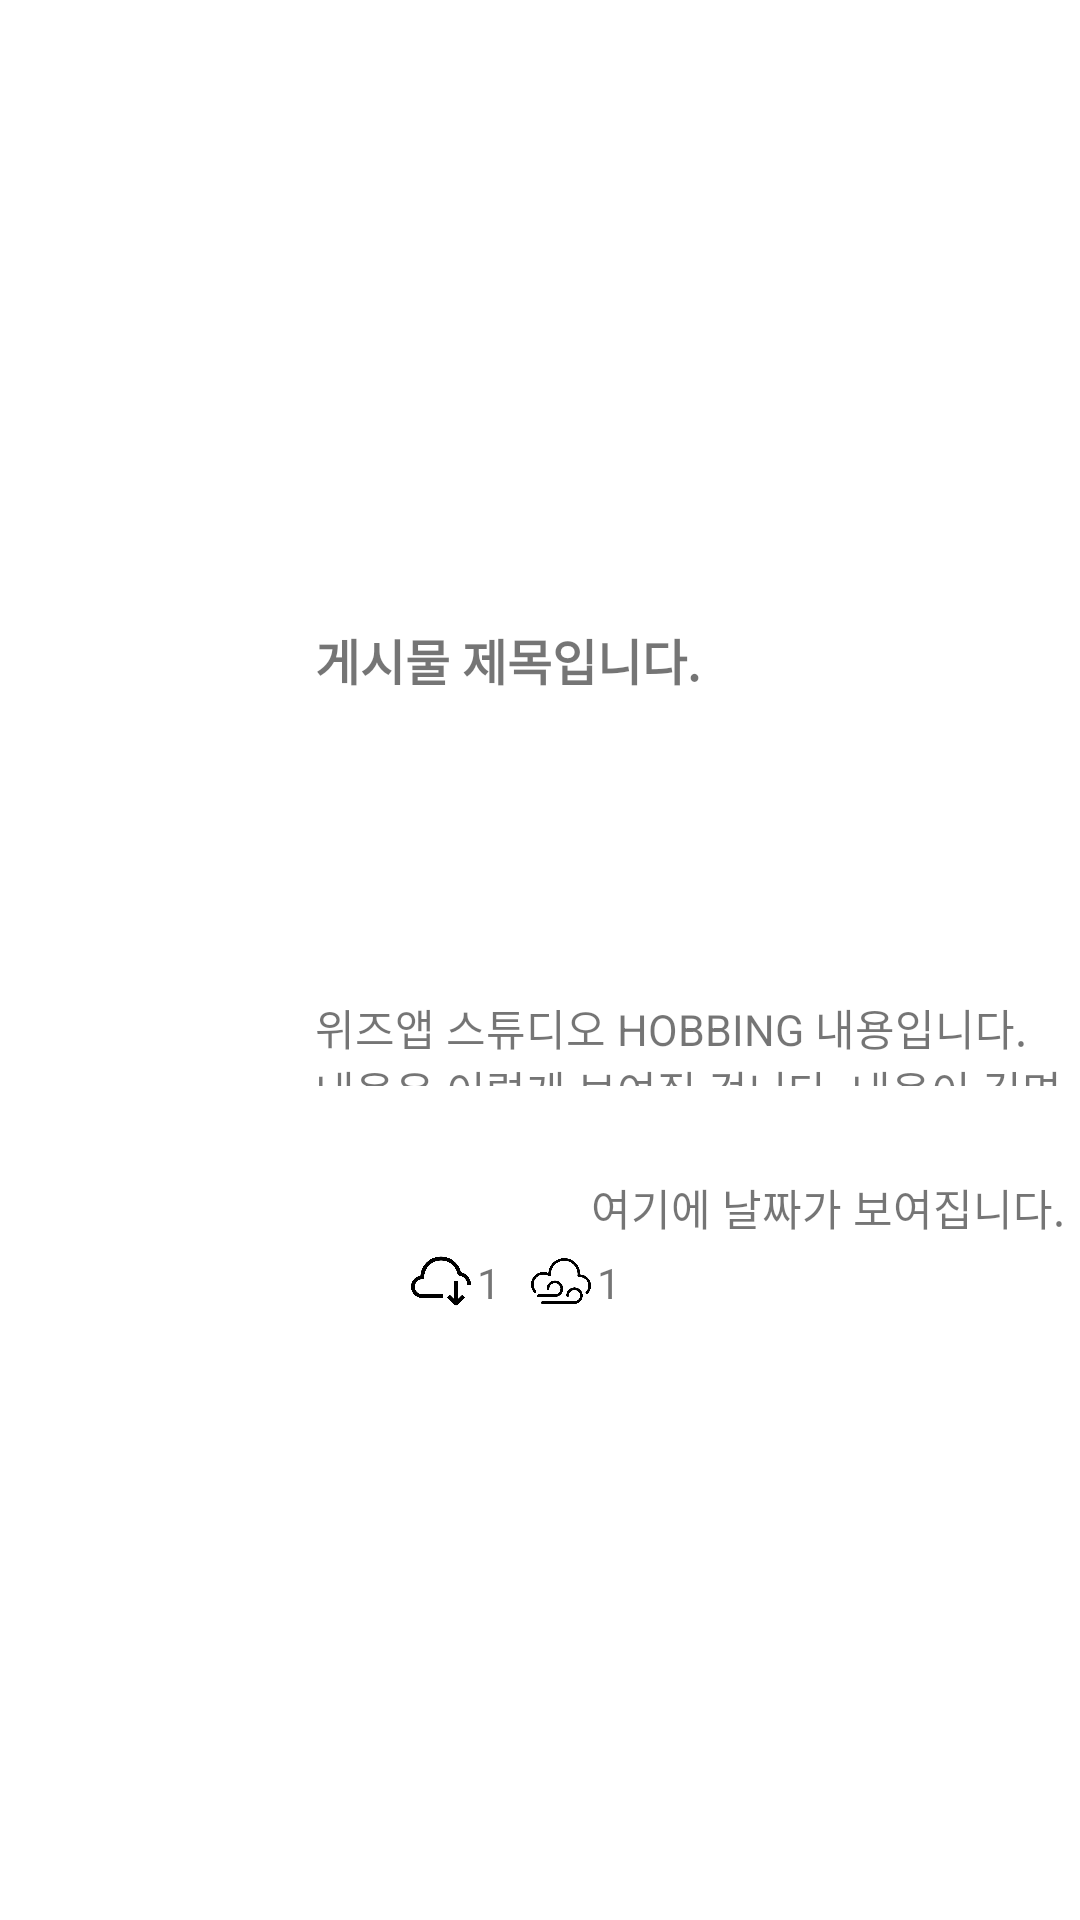

Point at icon controls on the screen. Image size 1080 x 1920, points as [x,y].
download: [441,1281]
